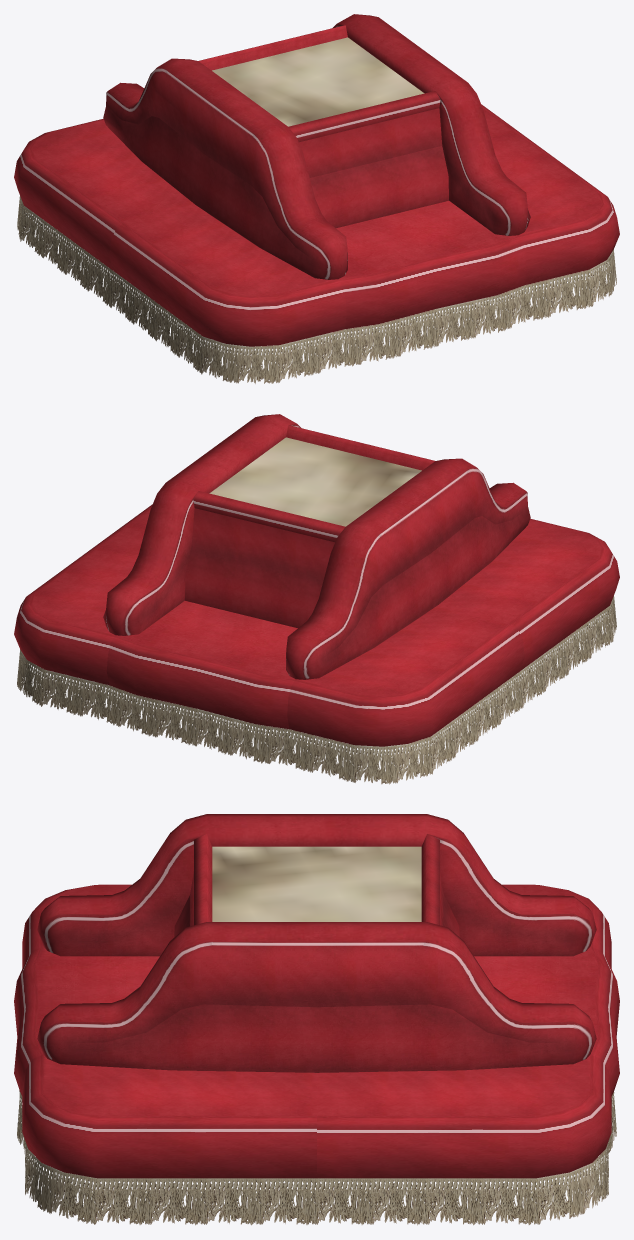
File: SofaSquareA.fbx
3 views of the same model, one above another, from view 1: azimuth 30°, elevation 25°; view 2: azimuth 150°, elevation 25°; view 3: azimuth 270°, elevation 25° (orthographic). The views are drawn at different scales.
Visible parts, largest first — view 1: SofaSquareA; view 2: SofaSquareA; view 3: SofaSquareA.
Part boxes in pixels (<box>): SofaSquareA: <box>14,14,619,383</box>; SofaSquareA: <box>14,414,619,784</box>; SofaSquareA: <box>14,814,619,1225</box>.
Bounding box in the file's own units: 324 × 140 × 333.
